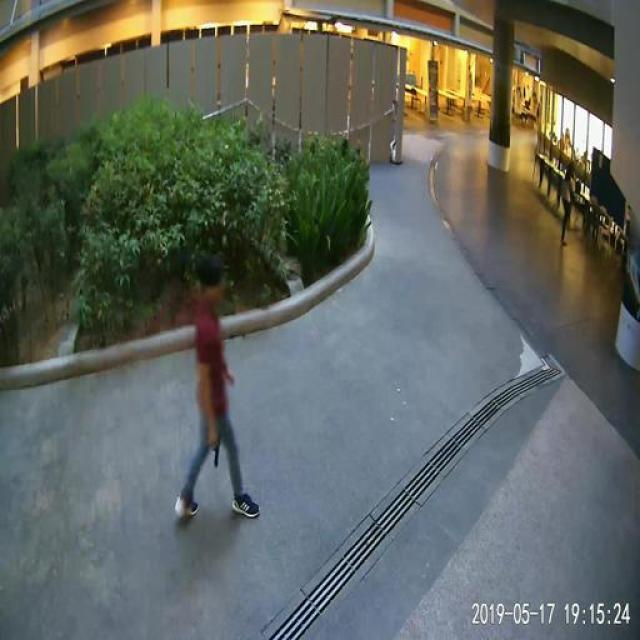Gun: (198, 429, 234, 478)
